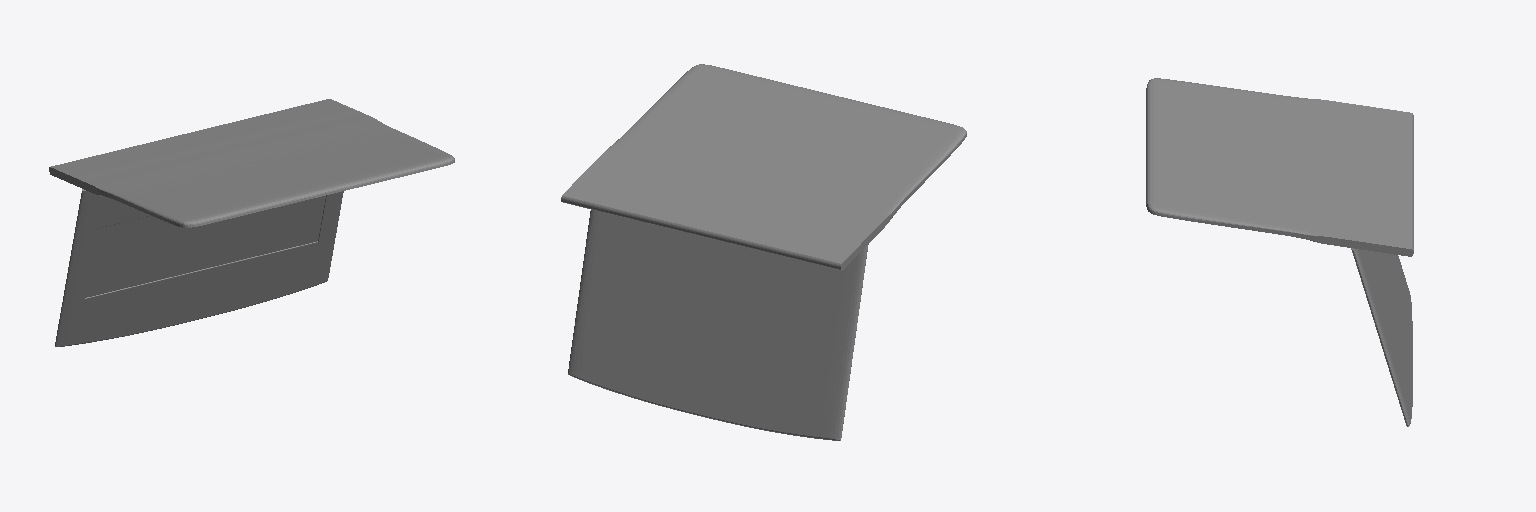
The model's file is lappy.obj.
3 renders of one model, left to right at view 1: azimuth 30°, elevation 25°; view 2: azimuth 150°, elevation 25°; view 3: azimuth 270°, elevation 25°, orthographic.
Visible parts, largest first — view 1: 10119_Laptop_Computer_v1_SG; view 2: 10119_Laptop_Computer_v1_SG; view 3: 10119_Laptop_Computer_v1_SG.
Part boxes in pixels (x1,y1,x2,y2): 10119_Laptop_Computer_v1_SG: (49, 99, 454, 346); 10119_Laptop_Computer_v1_SG: (561, 64, 966, 440); 10119_Laptop_Computer_v1_SG: (1146, 78, 1413, 426).
Bounding box in the file's own units: 35.27 × 27.21 × 29.19.